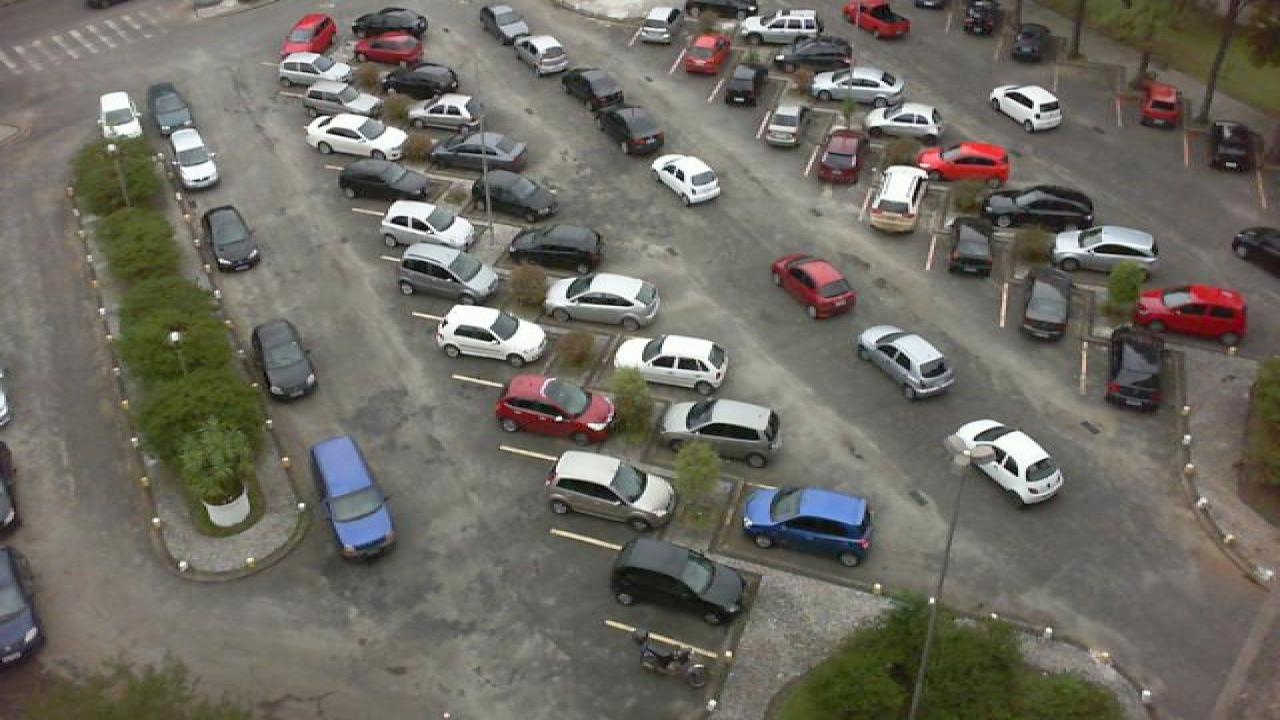Car: (610, 534, 748, 626), (542, 448, 680, 536), (308, 434, 398, 562), (740, 484, 876, 568), (948, 418, 1066, 508), (490, 372, 620, 446), (660, 395, 784, 470), (852, 322, 960, 400), (608, 334, 732, 396), (1128, 284, 1254, 344), (432, 302, 550, 366), (540, 272, 662, 329), (394, 243, 502, 301), (248, 317, 320, 402), (772, 253, 860, 321), (982, 183, 1100, 232), (1106, 323, 1168, 412), (378, 198, 482, 250), (1054, 225, 1160, 276), (302, 112, 412, 161), (506, 222, 606, 274), (462, 168, 558, 220), (862, 163, 932, 233), (430, 128, 532, 174), (336, 156, 434, 202), (916, 142, 1014, 186), (198, 205, 262, 272), (806, 65, 908, 107), (1018, 268, 1072, 343), (594, 101, 668, 155), (650, 153, 724, 206), (988, 83, 1066, 133), (164, 126, 222, 189), (946, 216, 998, 279), (1202, 119, 1262, 172), (274, 52, 358, 89), (300, 81, 380, 119), (740, 8, 822, 45), (812, 128, 866, 184), (864, 104, 942, 142), (404, 93, 484, 130), (562, 66, 626, 112), (380, 63, 460, 98), (844, 0, 910, 40), (758, 100, 812, 148), (146, 82, 196, 133), (790, 35, 856, 72), (280, 12, 338, 54), (96, 90, 144, 140), (1136, 81, 1186, 128), (350, 7, 428, 37), (478, 5, 532, 48), (676, 34, 732, 75), (514, 34, 570, 74), (352, 34, 426, 63), (634, 4, 682, 44), (724, 63, 764, 108), (1010, 22, 1050, 64), (958, 0, 1002, 38)
